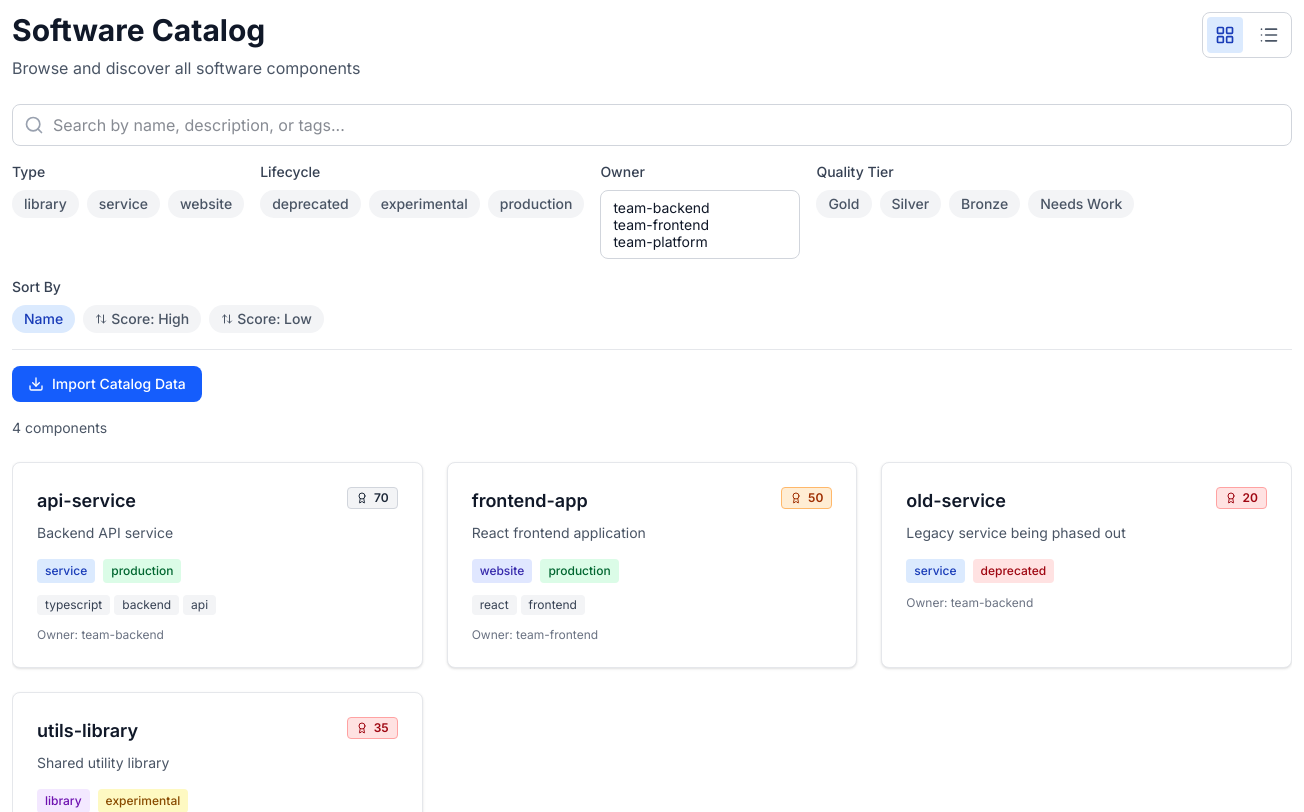
Scenario: CatalogPage › Type Filtering › filters by service type
The image size is (1304, 812).
Click the button "service". click: [123, 204]
box: left=87, top=190, right=160, bottom=218
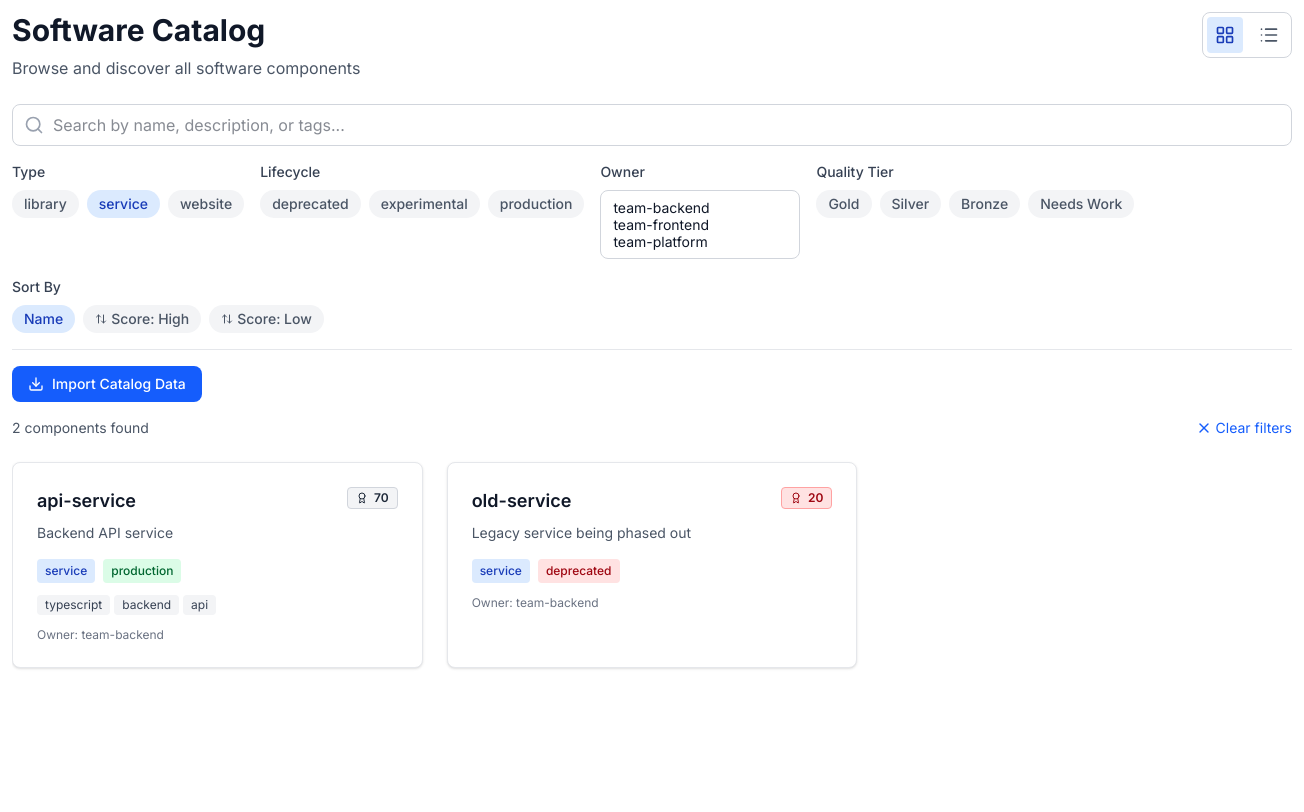
Expected: the heading "api-service" is shown, left=37, top=487, right=136, bottom=515
Now the link "frontend-app" is gone
Now the link "utils-library" is gone
